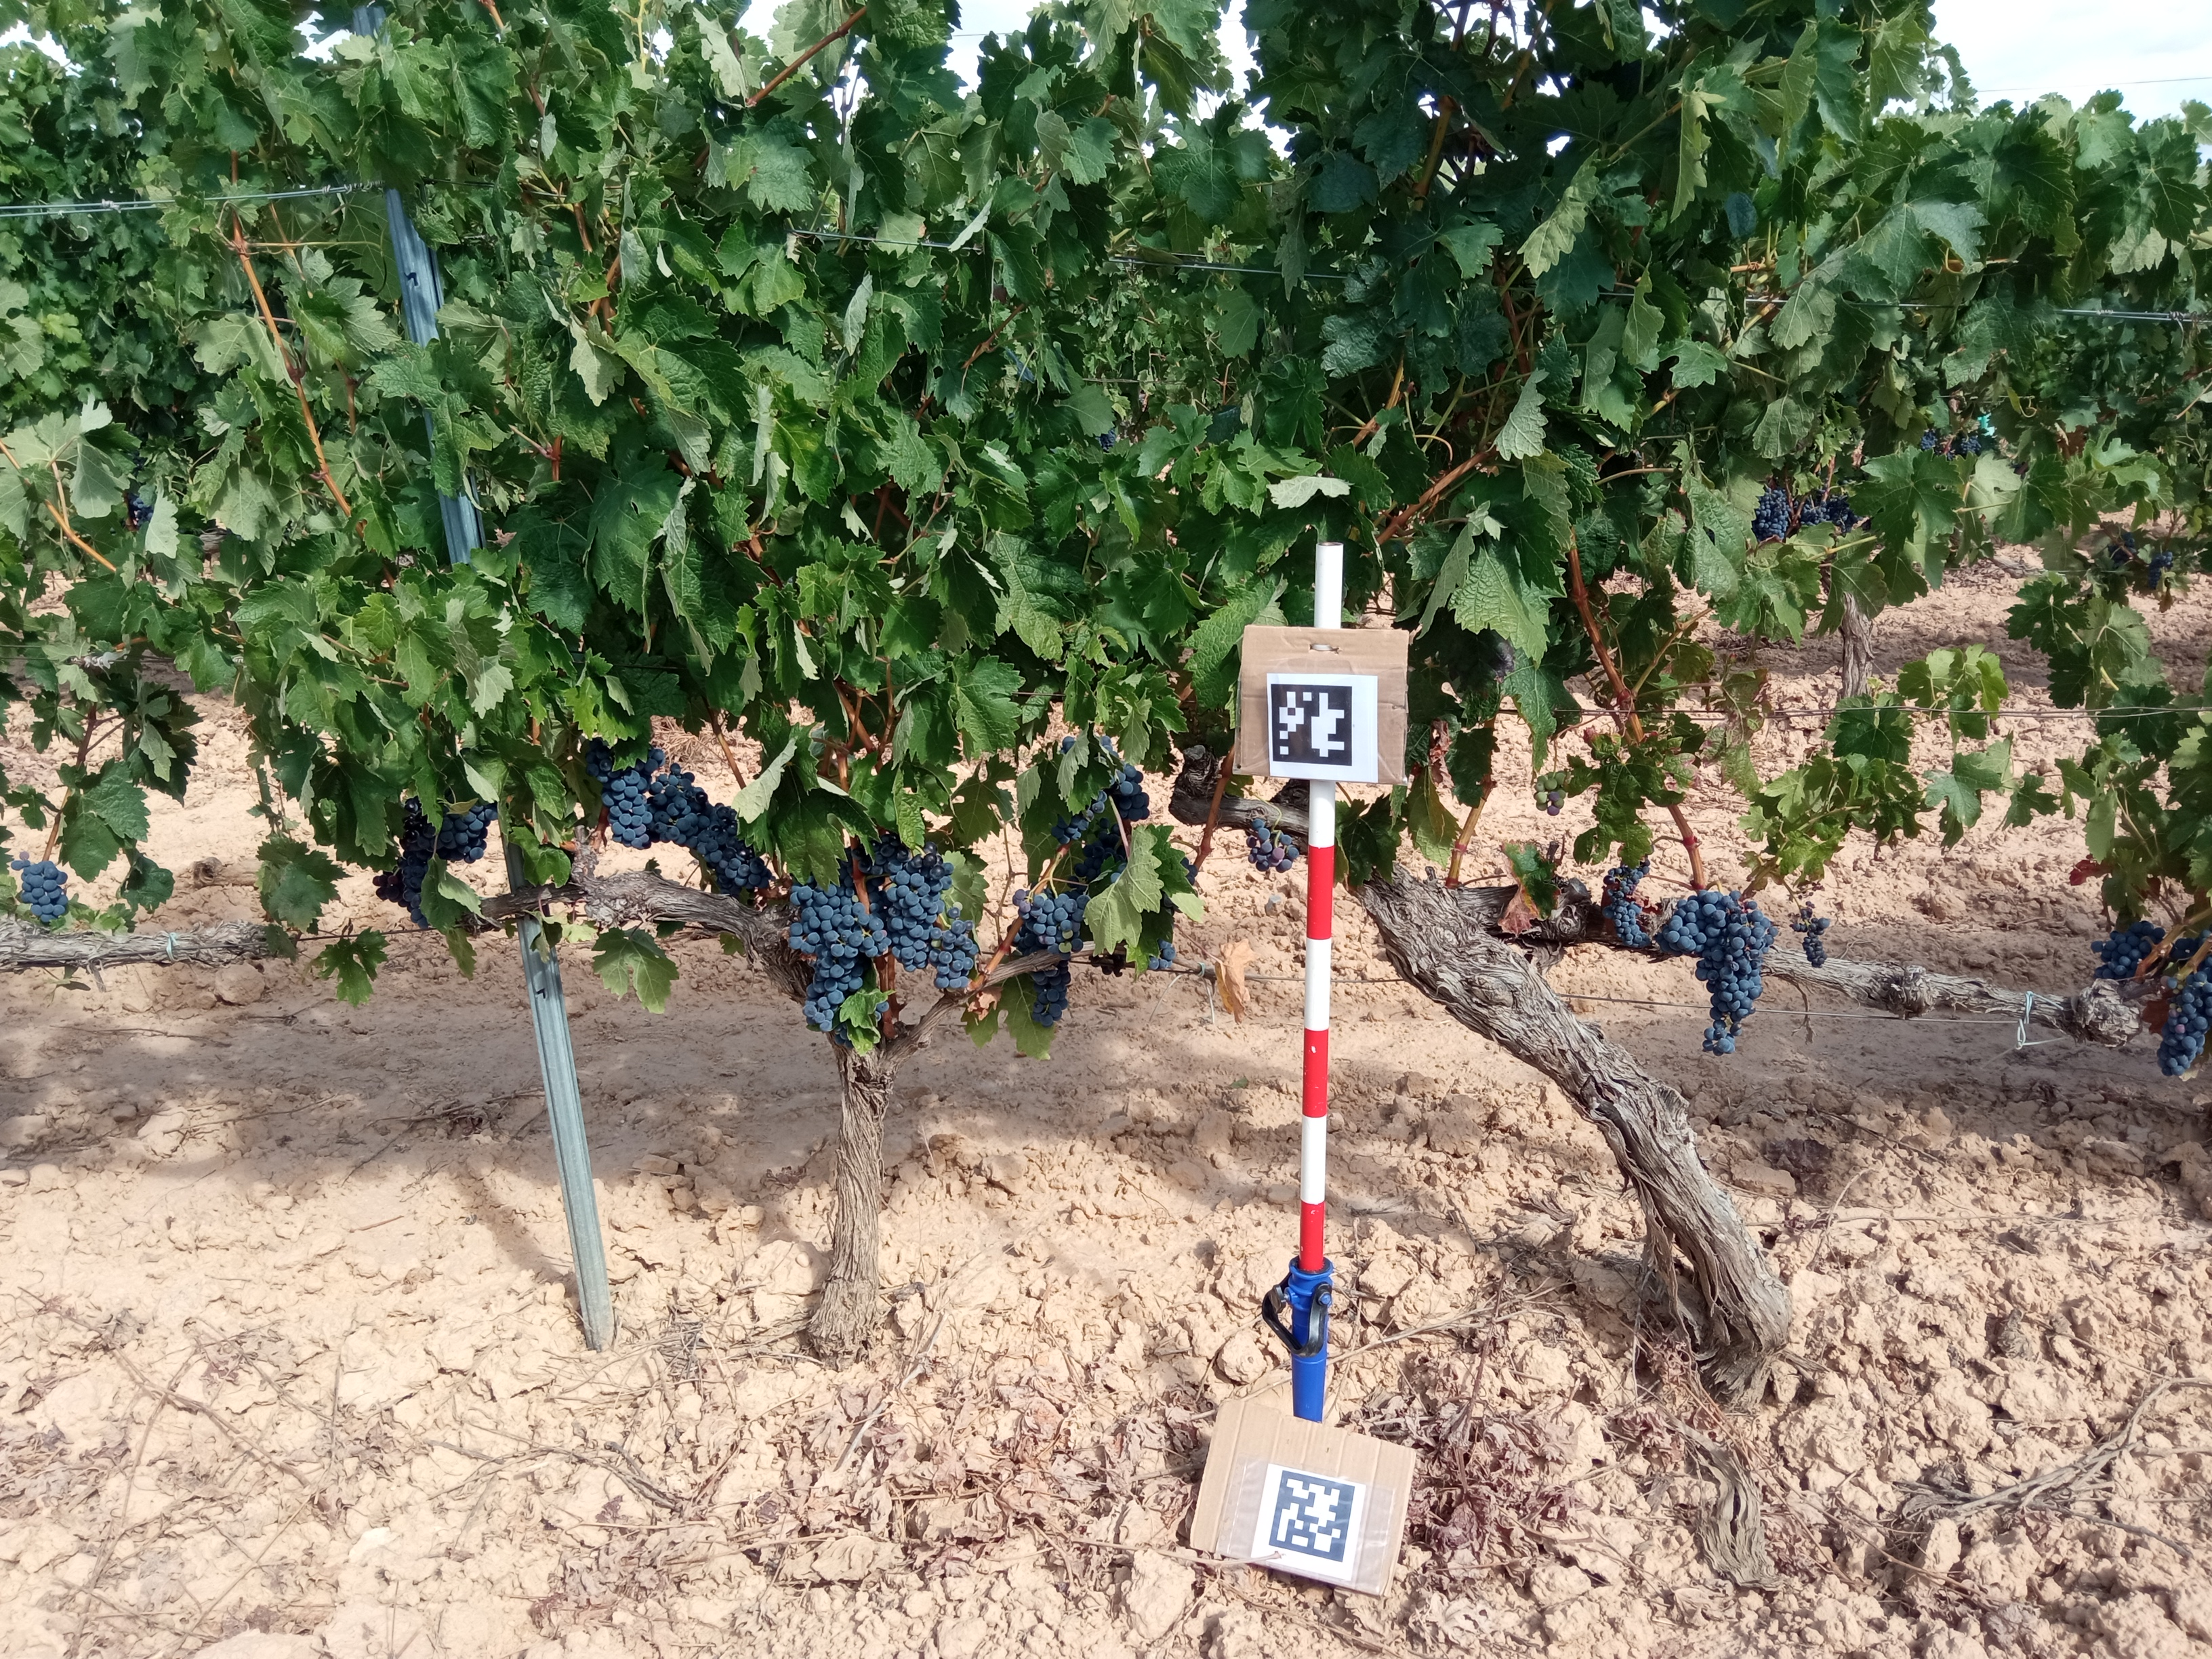grapes: (1662, 889, 1778, 1061), (864, 840, 975, 992), (380, 793, 500, 932), (651, 772, 773, 890), (791, 857, 862, 1042), (583, 737, 664, 849), (2155, 960, 2212, 1077), (1010, 885, 1085, 955), (2094, 918, 2163, 978), (16, 852, 68, 927), (1608, 861, 1649, 946), (1244, 817, 1301, 871), (1791, 903, 1832, 972), (1031, 967, 1075, 1026), (1109, 760, 1153, 817), (1078, 826, 1122, 882), (1533, 769, 1569, 812), (1050, 812, 1090, 845), (1148, 939, 1179, 971)
